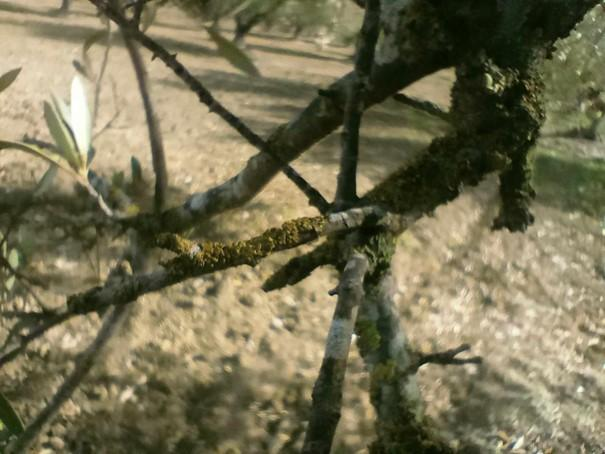Tuberculosis: (146, 209, 336, 272)
